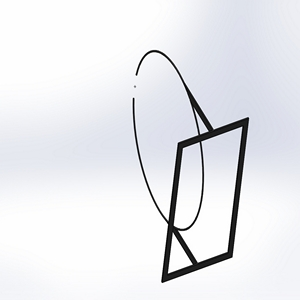circle: (128, 48, 249, 283)
